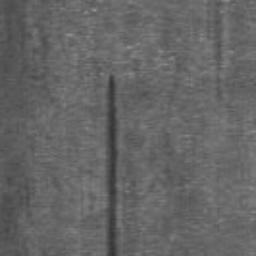Scratches: (106, 73, 121, 256)
